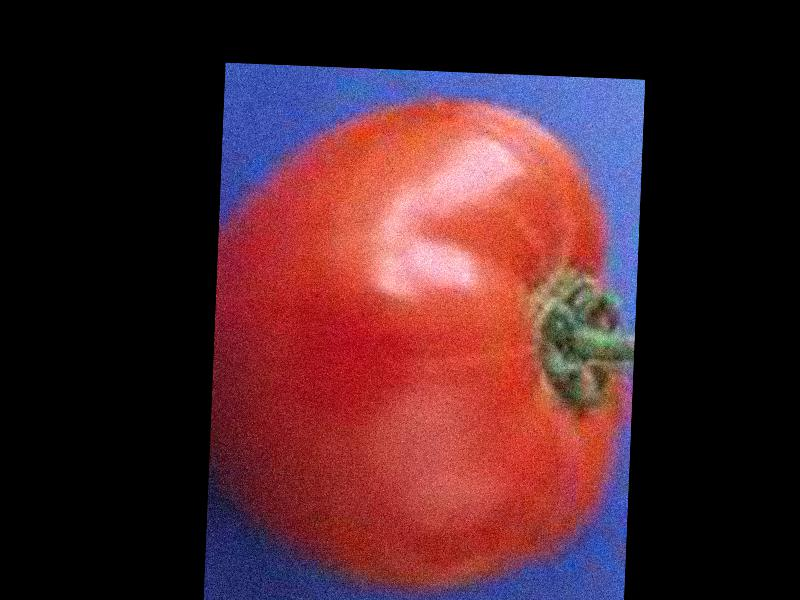Tomato: (207, 91, 640, 600)
